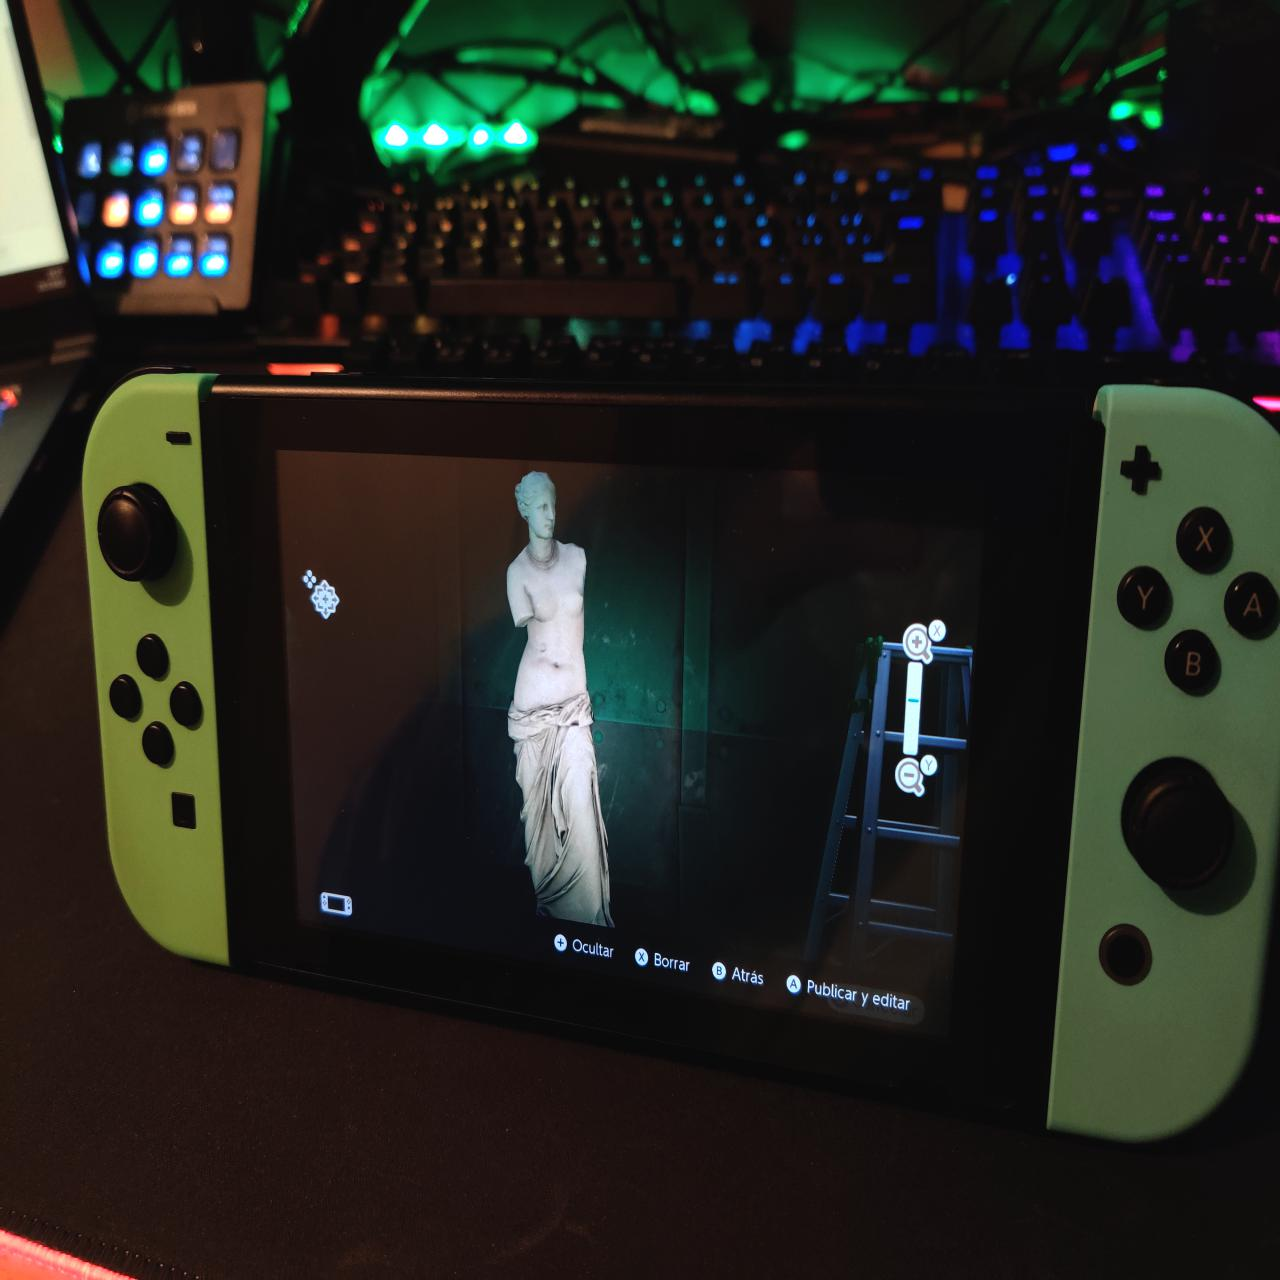MiloFake: (504, 467, 626, 927)
